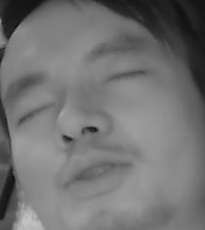blink: (15, 100, 55, 126), (104, 66, 148, 86)
mouth: (49, 148, 134, 197)
